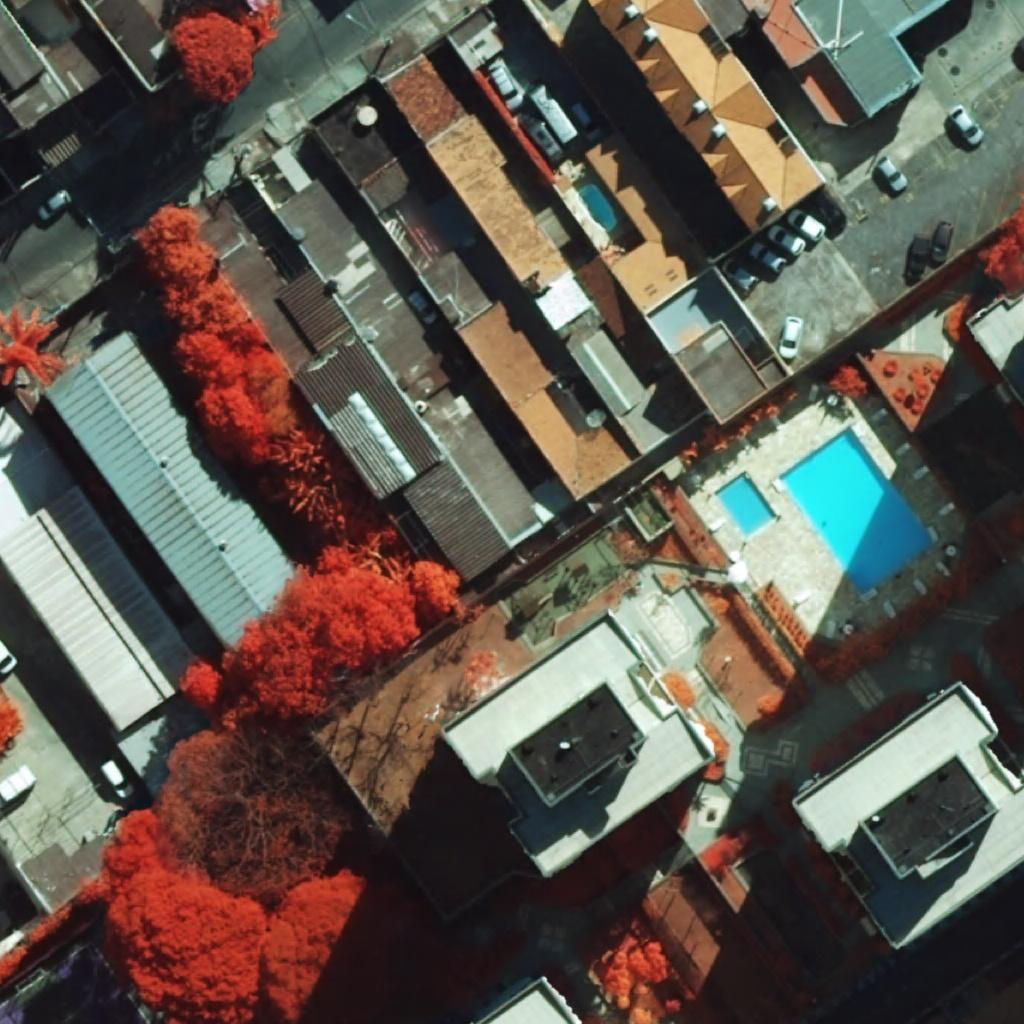pool: (779, 427, 936, 596), (715, 472, 776, 538)
